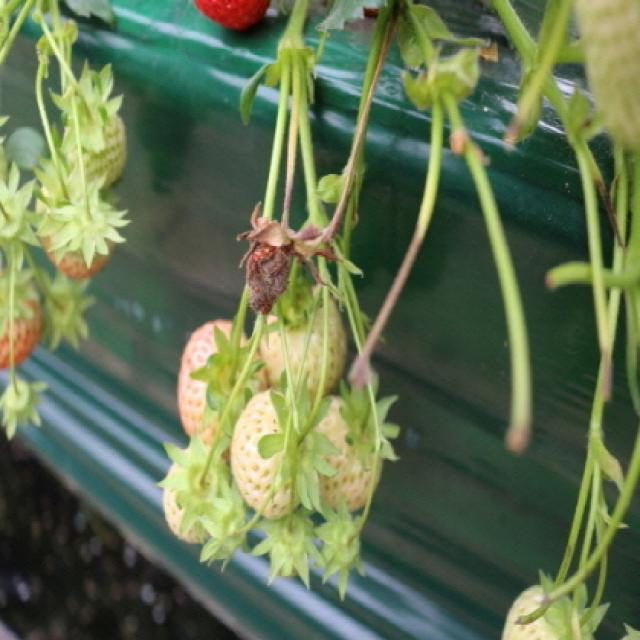Gray Mold: (235, 203, 298, 315)
